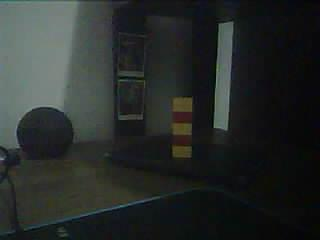lego: (169, 95, 194, 158)
